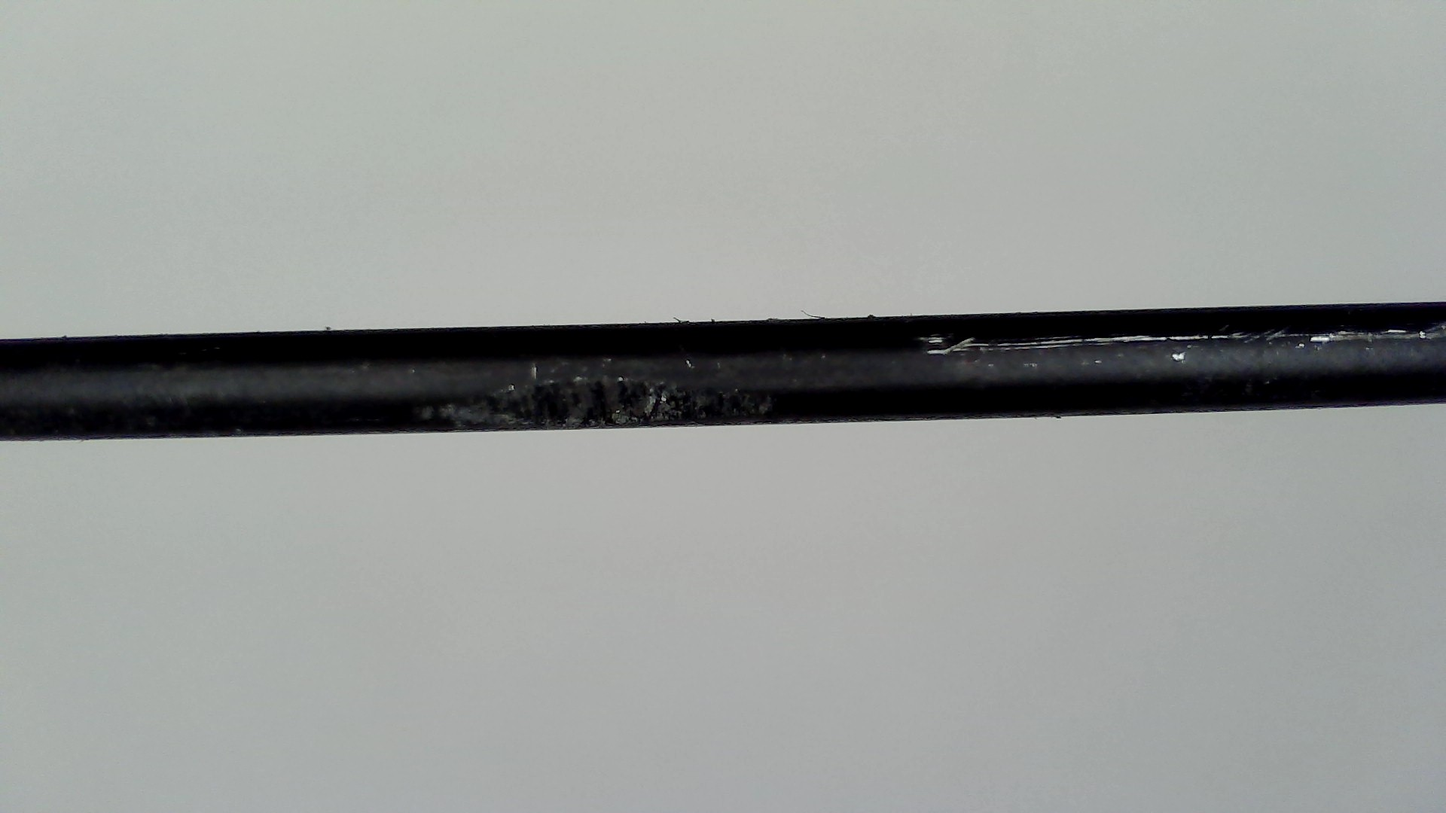defect: (916, 300, 1432, 359), (438, 361, 784, 432)
